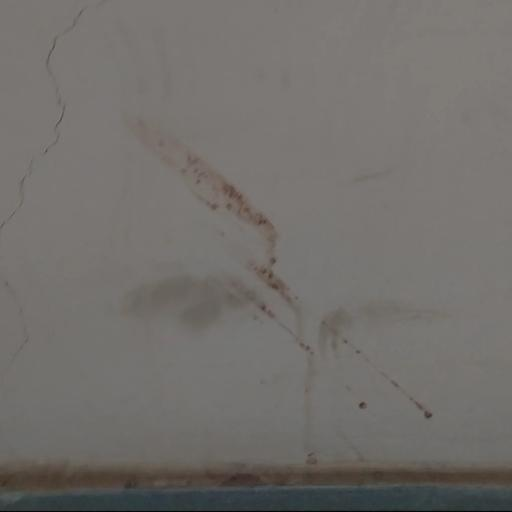stain: (114, 85, 461, 479)
